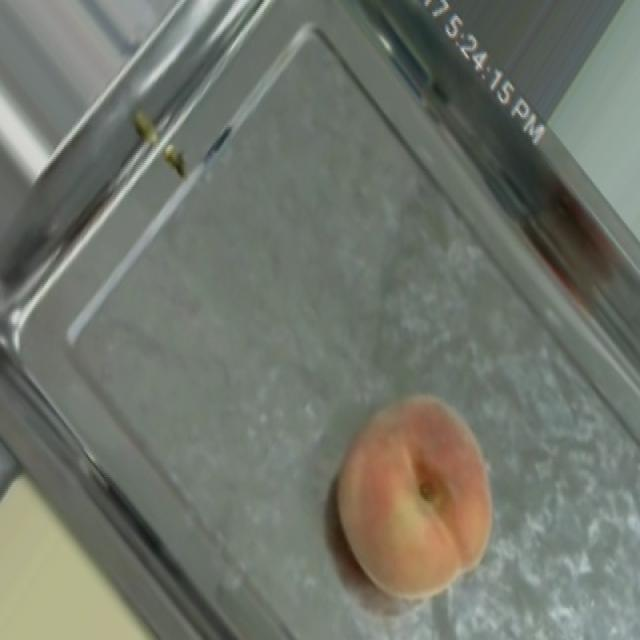Fruit: (298, 364, 518, 626), (1, 447, 198, 640)
